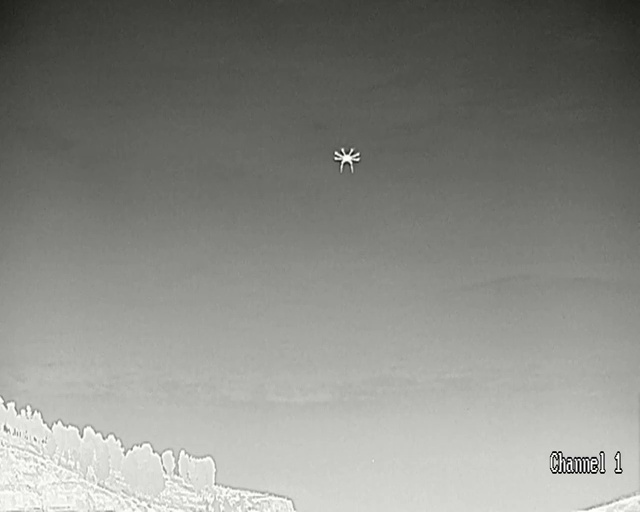uav: (333, 147, 360, 174)
